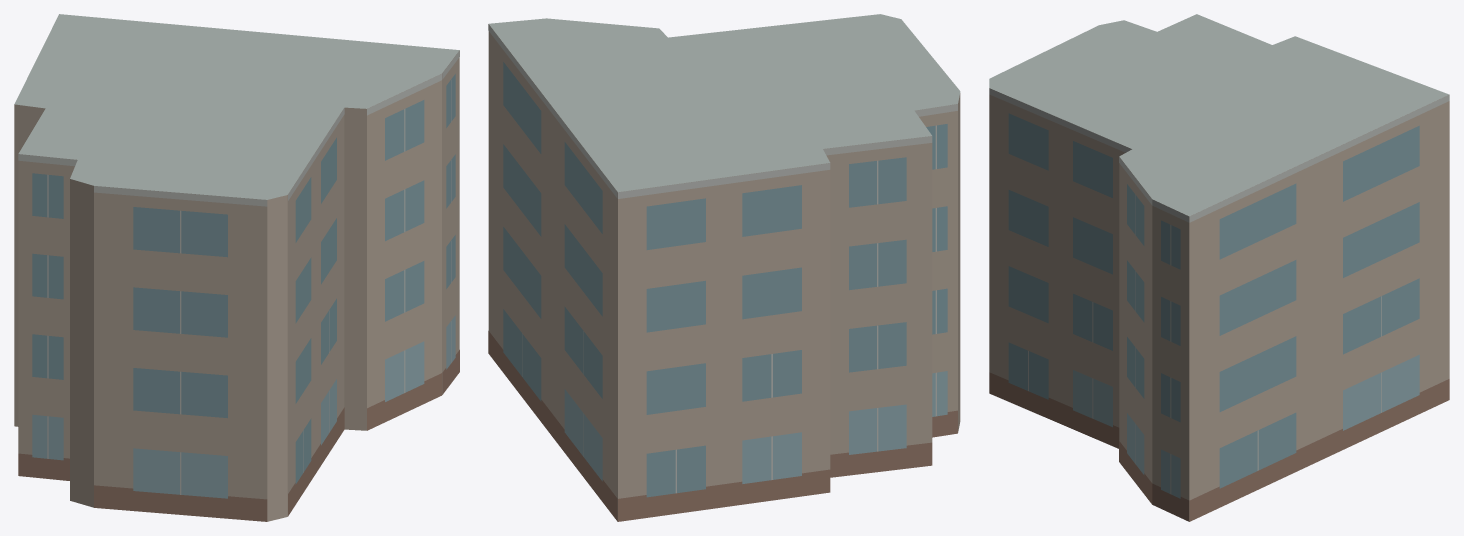
File: survey-upis-32914916.glb
The picture shows the model from 3 angles, left to right: view 1: azimuth 30°, elevation 25°; view 2: azimuth 150°, elevation 25°; view 3: azimuth 270°, elevation 25°; orthographic projection. The views are drawn at different scales.
Visible parts, largest first — view 1: survey-upis-32914916.tmp; view 2: survey-upis-32914916.tmp; view 3: survey-upis-32914916.tmp.
Part boxes in pixels (box(x1,y1,x2,y2)): survey-upis-32914916.tmp: box(14, 14, 459, 521); survey-upis-32914916.tmp: box(488, 14, 960, 521); survey-upis-32914916.tmp: box(989, 14, 1449, 521).
Size of the model in its own units: 16.64 by 11.7 by 15.98.
